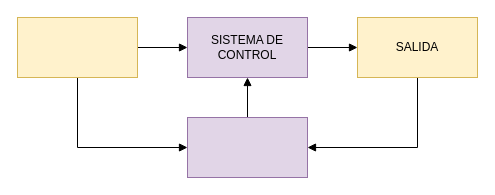
Some shapes in this 495 by 195 pixel diagram are drawn without their labels. The shapes that lost their labels are listed below. From the top down, each one's box as (x1, y1, x2, y2) in pixels, then its label:
(16, 16, 138, 78): ENTRADA
(186, 116, 308, 178): CALIBRACIÓN
